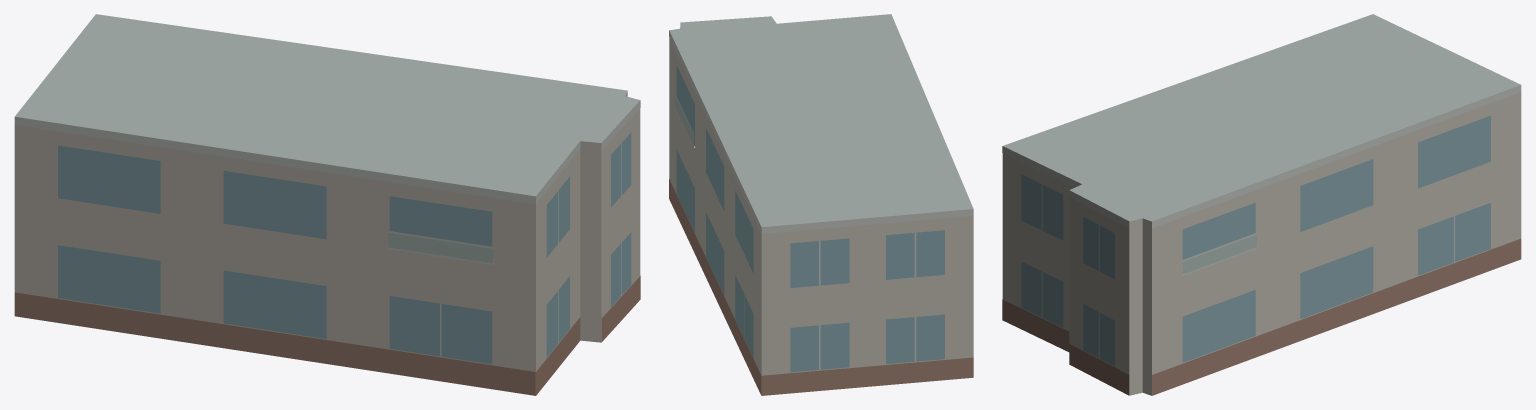
File: survey-upis-32589426.glb
3 renders of one model, left to right at view 1: azimuth 30°, elevation 25°; view 2: azimuth 150°, elevation 25°; view 3: azimuth 270°, elevation 25°, orthographic. The views are drawn at different scales.
Parts seen in each view (by area): view 1: survey-upis-32589426.tmp; view 2: survey-upis-32589426.tmp; view 3: survey-upis-32589426.tmp.
Part boxes in pixels (box(x1,y1,x2,y2)): survey-upis-32589426.tmp: box(14, 14, 640, 395); survey-upis-32589426.tmp: box(669, 14, 973, 395); survey-upis-32589426.tmp: box(1002, 14, 1521, 395).
Size of the model in its own units: 15.58 by 6.1 by 16.46.
